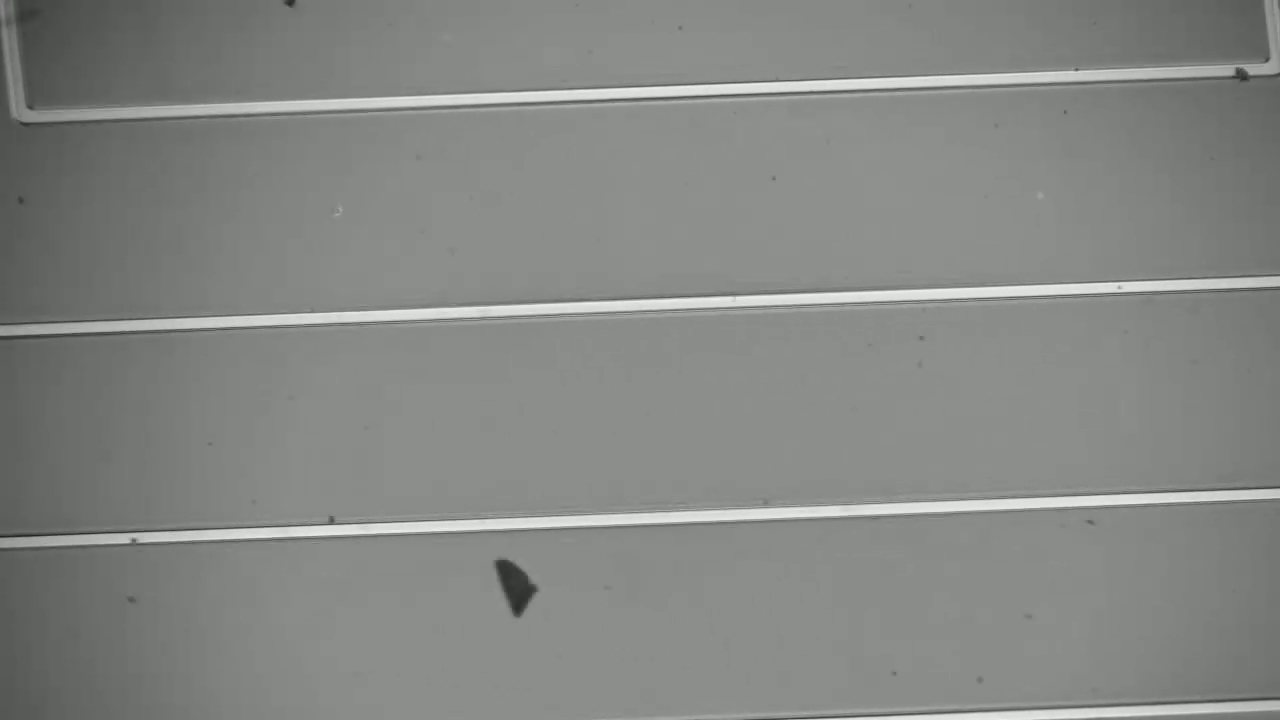stains_enbedded: (1225, 51, 1260, 88)
